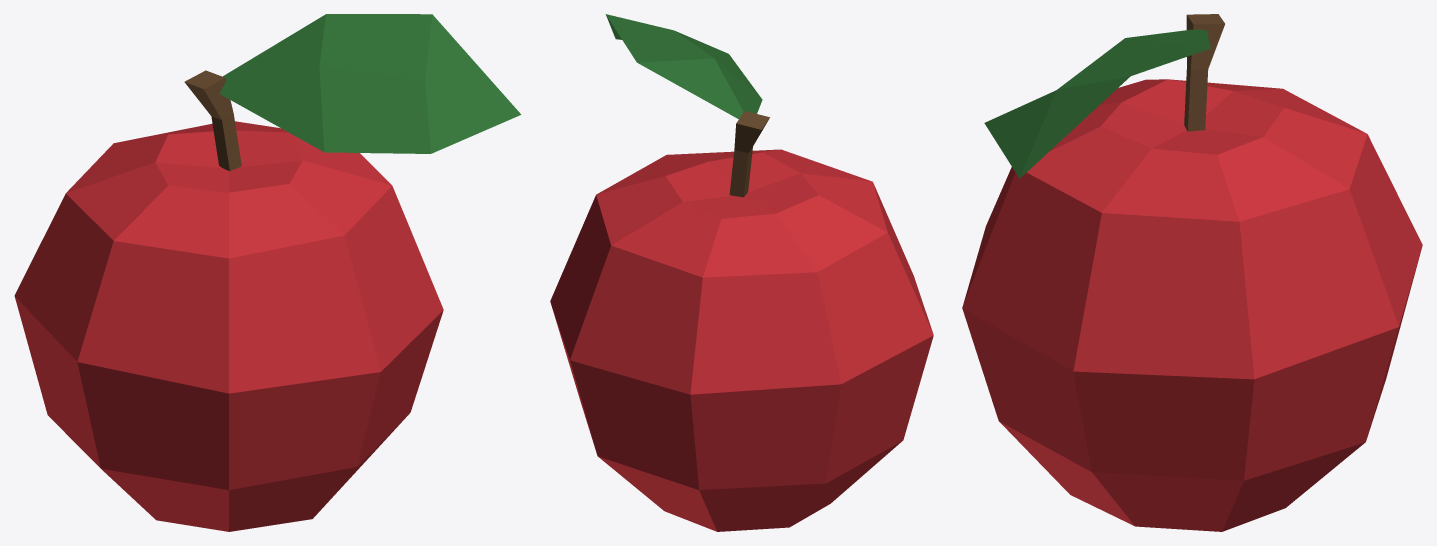
File: food_apple.fbx
3 renders of one model, left to right at view 1: azimuth 30°, elevation 25°; view 2: azimuth 150°, elevation 25°; view 3: azimuth 270°, elevation 25°, orthographic. The views are drawn at different scales.
Visible parts, largest first — view 1: food_apple; view 2: food_apple; view 3: food_apple.
Boxes of the visible parts, x1=… form: food_apple: x1=14, y1=14, x2=521, y2=531; food_apple: x1=550, y1=14, x2=933, y2=531; food_apple: x1=962, y1=14, x2=1422, y2=531.
Bounding box in the file's own units: 176 × 200 × 161.
